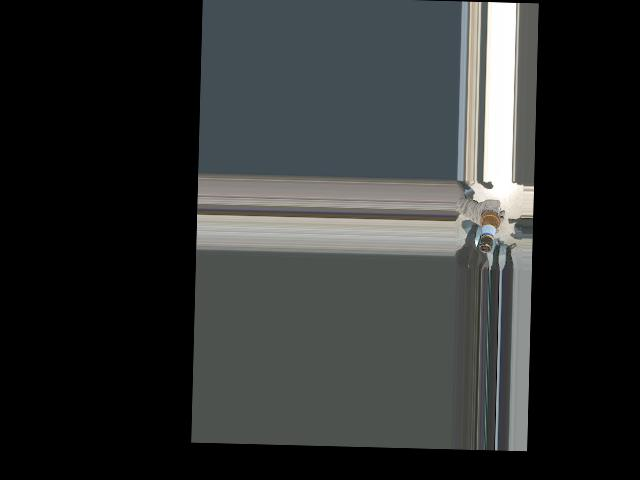beer: (478, 202, 502, 253)
